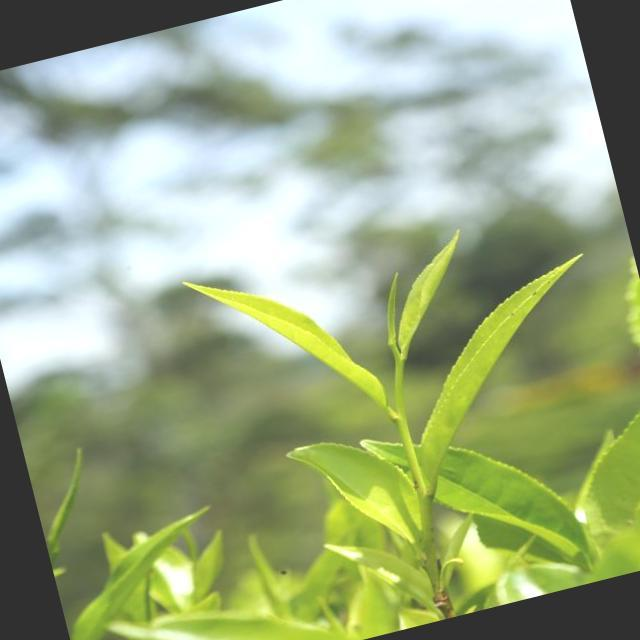Stem: (394, 415, 414, 458)
